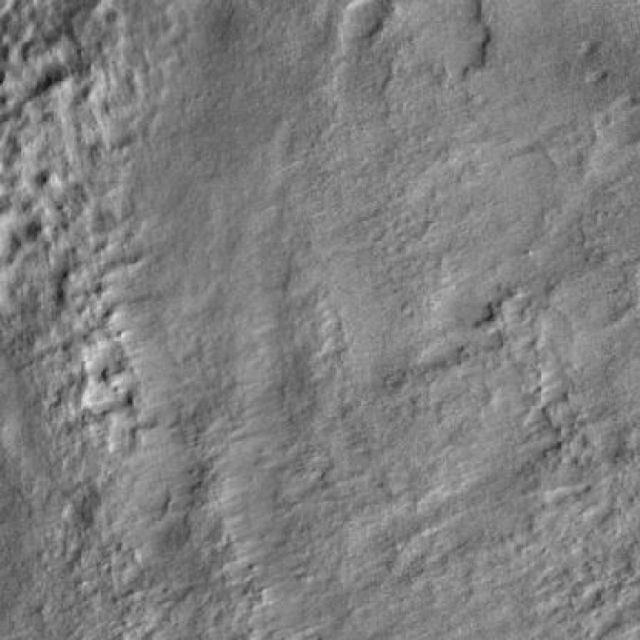crater: (586, 96, 640, 150)
